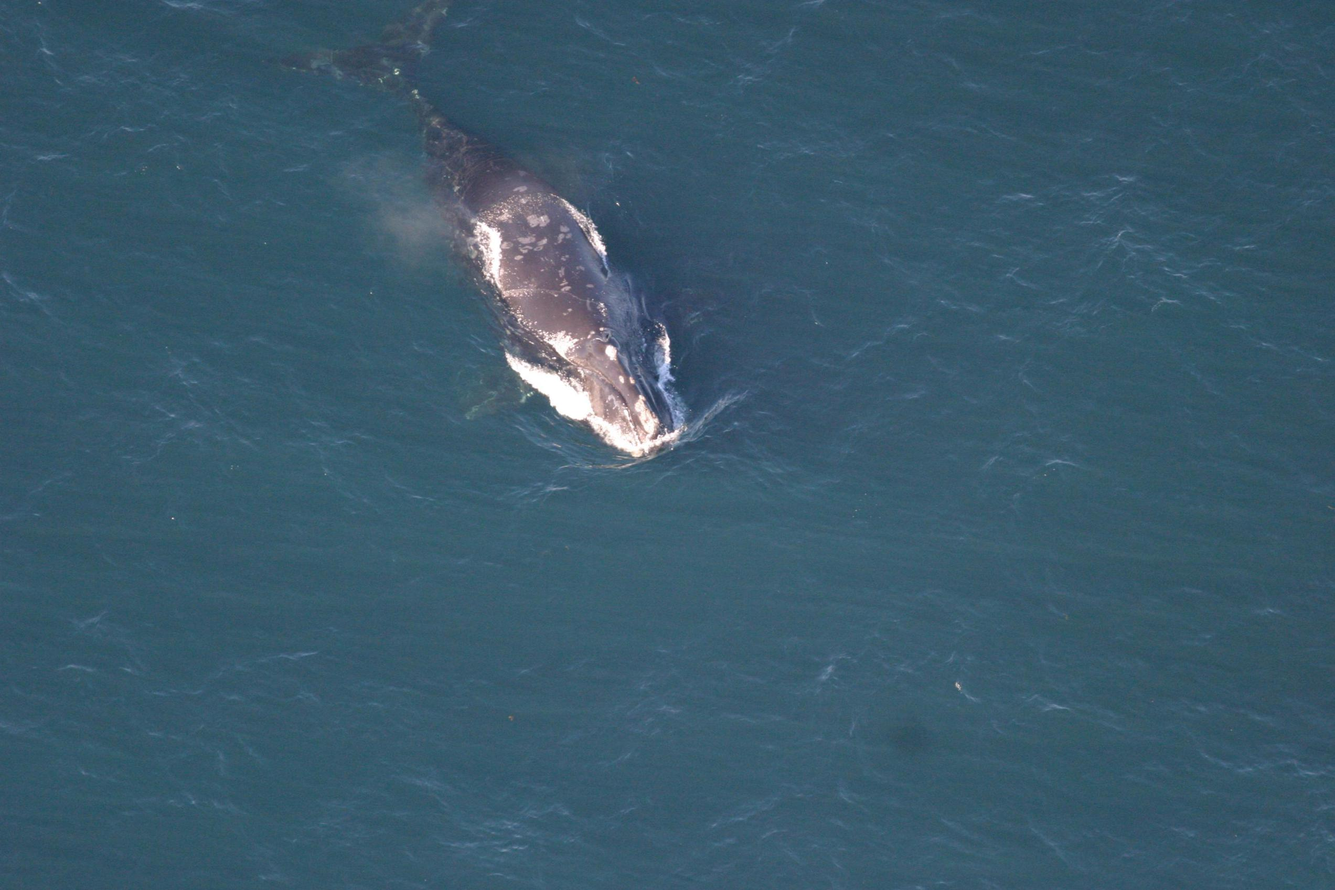whale: (256, 0, 695, 475)
